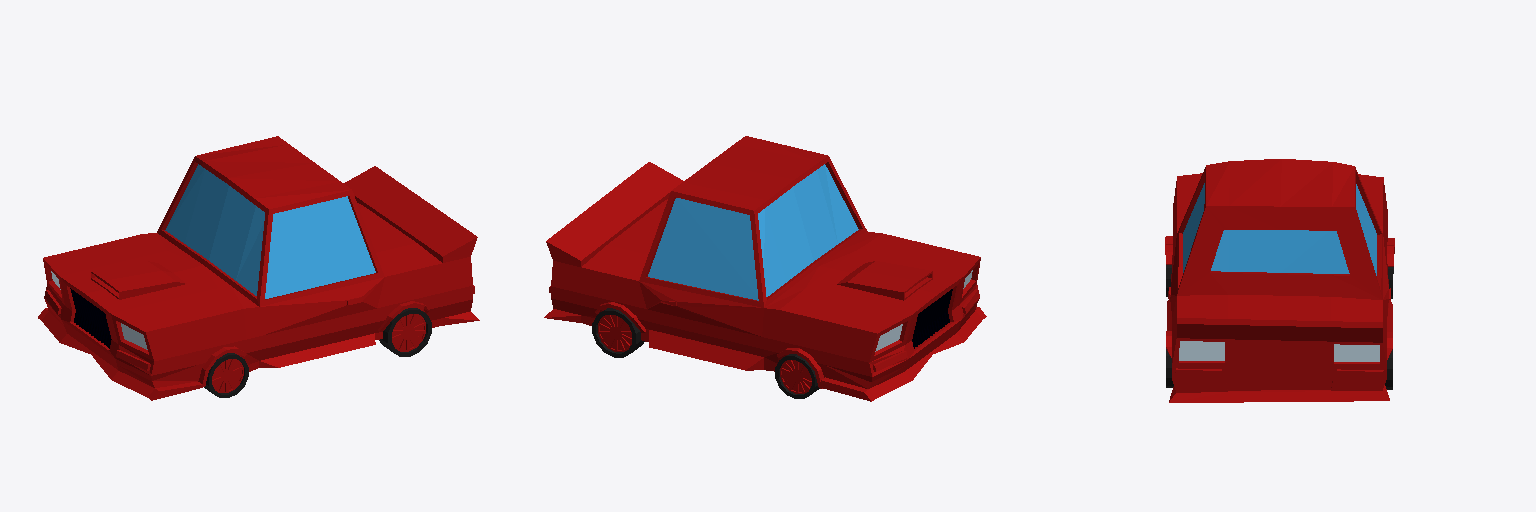
The model's file is car.obj.
3 views of the same model, side by side, from view 1: azimuth 30°, elevation 25°; view 2: azimuth 150°, elevation 25°; view 3: azimuth 270°, elevation 25° (orthographic).
Visible parts, largest first — view 1: body, wheel_1, wheel1_1, lattice_1; view 2: body, wheel_1, wheel1_1, lattice_1; view 3: body, backlight.
Part boxes in pixels (bbox=[...]): body: bbox=[38, 136, 479, 400]; wheel_1: bbox=[379, 308, 431, 356]; wheel1_1: bbox=[204, 353, 248, 397]; lattice_1: bbox=[70, 288, 111, 348]; body: bbox=[544, 136, 986, 401]; wheel_1: bbox=[592, 308, 644, 357]; wheel1_1: bbox=[775, 354, 819, 398]; lattice_1: bbox=[912, 289, 952, 348]; body: bbox=[1165, 159, 1394, 402]; backlight: bbox=[1179, 341, 1379, 361].
Bounding box in the file's own units: 37.89 × 17.8 × 22.09.